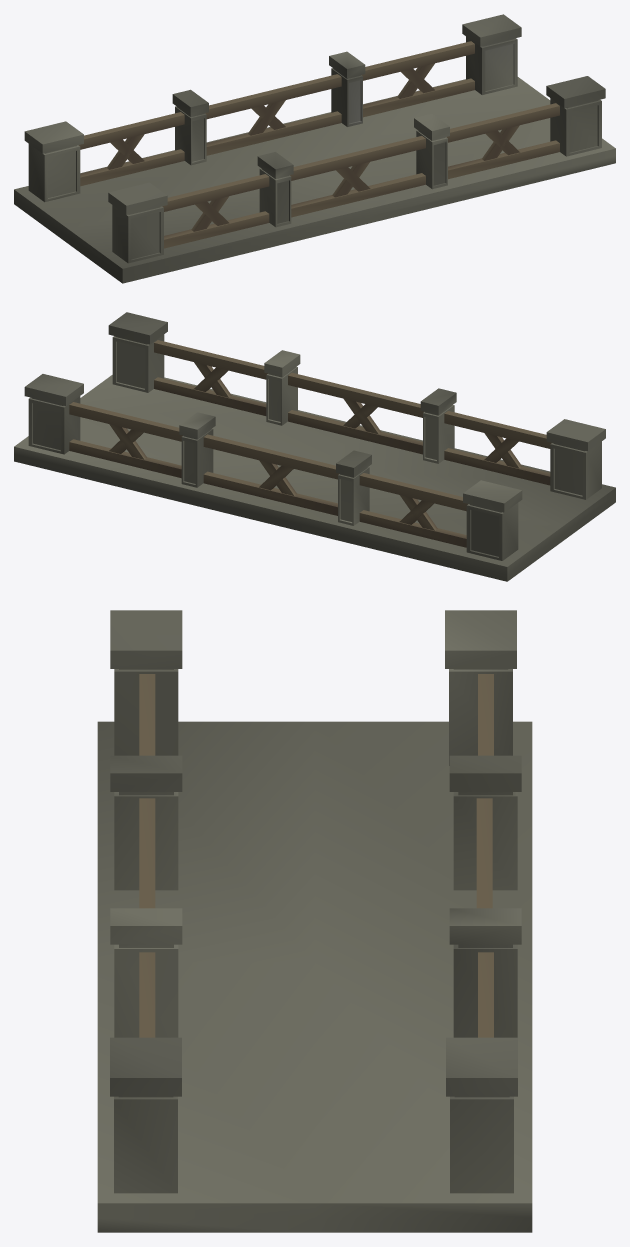
File: Brige - Copia.fbx
3 views of the same model, one above another, from view 1: azimuth 30°, elevation 25°; view 2: azimuth 150°, elevation 25°; view 3: azimuth 270°, elevation 25° (orthographic). The views are drawn at different scales.
Parts seen in each view (by area): view 1: Brige_LOD0; view 2: Brige_LOD0; view 3: Brige_LOD0.
Part boxes in pixels (x1,y1,x2,y2): Brige_LOD0: (14, 14, 615, 283); Brige_LOD0: (14, 312, 615, 581); Brige_LOD0: (97, 610, 532, 1232).
Size of what is drawn, in the model's own units: 1303 by 187 by 497.
